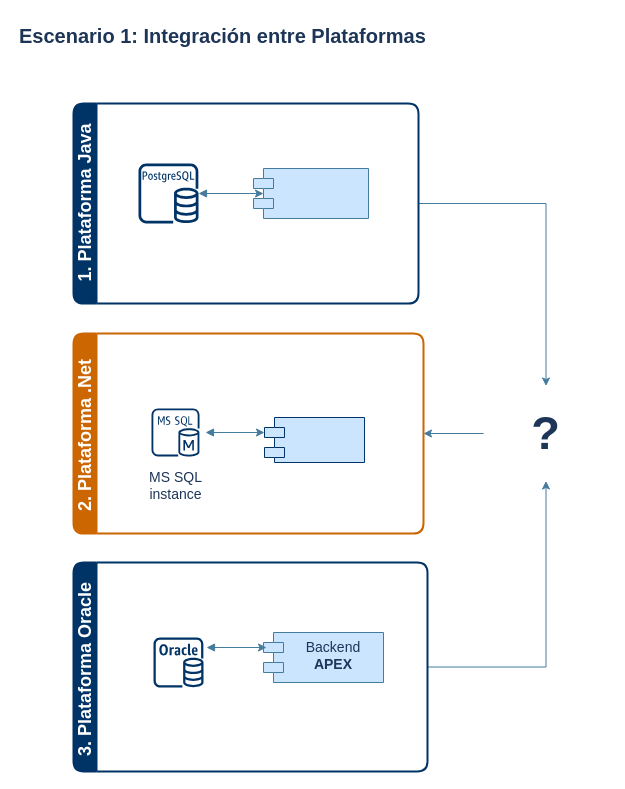
Image size: 625x789. Some labels were removed from this diagram. Each missing label, with the centre of its shape:
Backend C#: [314,439]
Backend Java: [310,193]
